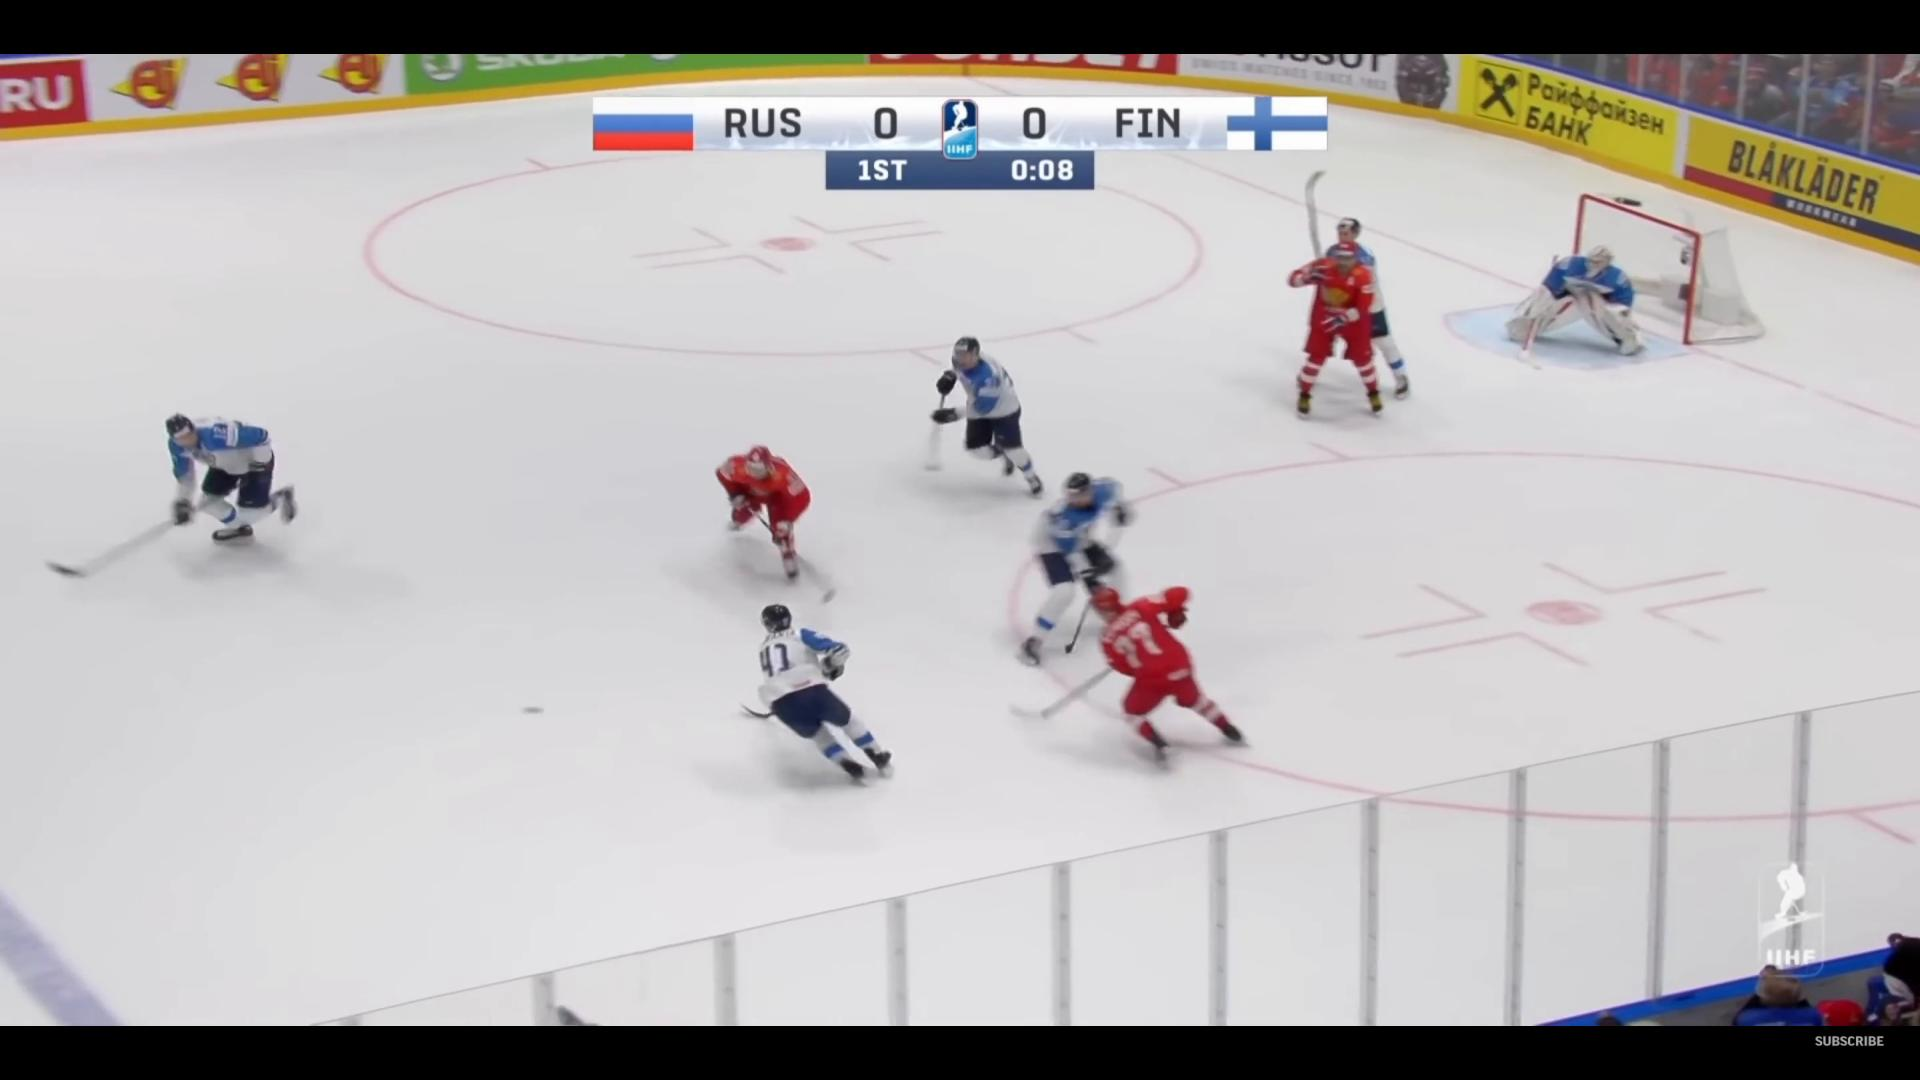puck: (524, 705, 543, 712)
